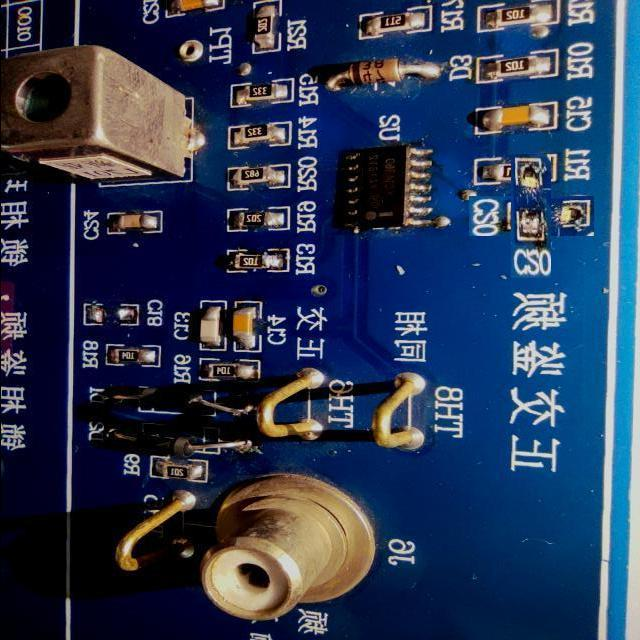miss_welding: (490, 175, 573, 257), (80, 295, 166, 329)
